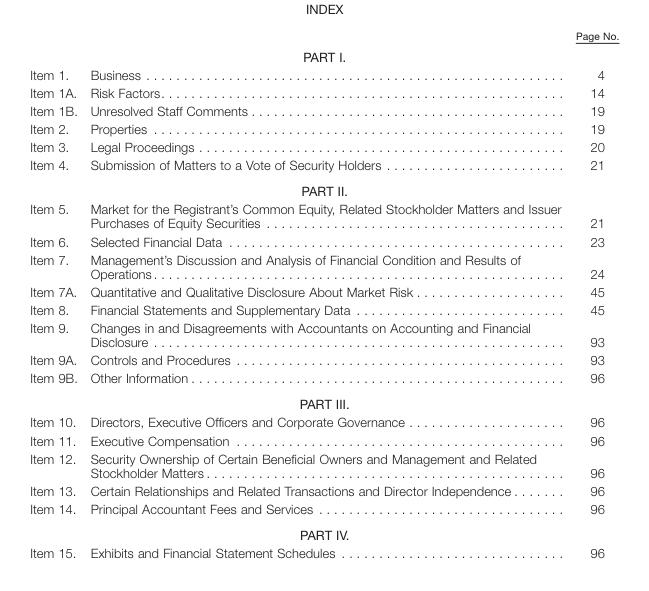table: (29, 28, 618, 559)
table column: (83, 28, 567, 559), (29, 28, 83, 559), (567, 28, 618, 559)
table column header: (29, 28, 618, 44)
table projected row header: (29, 177, 618, 199), (29, 390, 618, 412), (29, 521, 618, 542), (29, 44, 618, 64)
table row: (29, 199, 618, 231), (29, 249, 618, 281), (29, 318, 618, 350), (29, 448, 618, 480), (29, 155, 618, 177), (29, 177, 618, 199), (29, 368, 618, 390), (29, 390, 618, 412), (29, 499, 618, 521), (29, 521, 618, 542), (29, 44, 618, 64), (29, 64, 618, 83), (29, 281, 618, 300), (29, 480, 618, 499), (29, 83, 618, 101), (29, 101, 618, 119), (29, 119, 618, 137), (29, 137, 618, 155), (29, 231, 618, 249), (29, 300, 618, 318), (29, 350, 618, 368), (29, 412, 618, 430), (29, 430, 618, 448), (29, 542, 618, 559), (29, 28, 618, 44)
